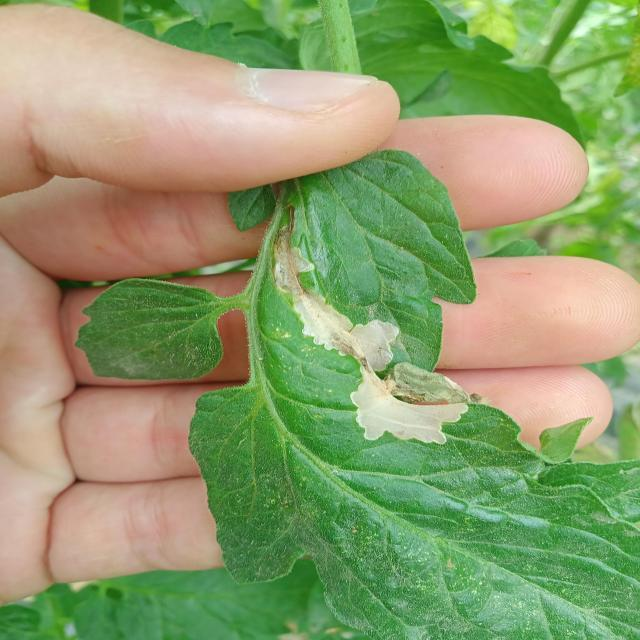Tuta absoluta: (222, 216, 476, 480)
